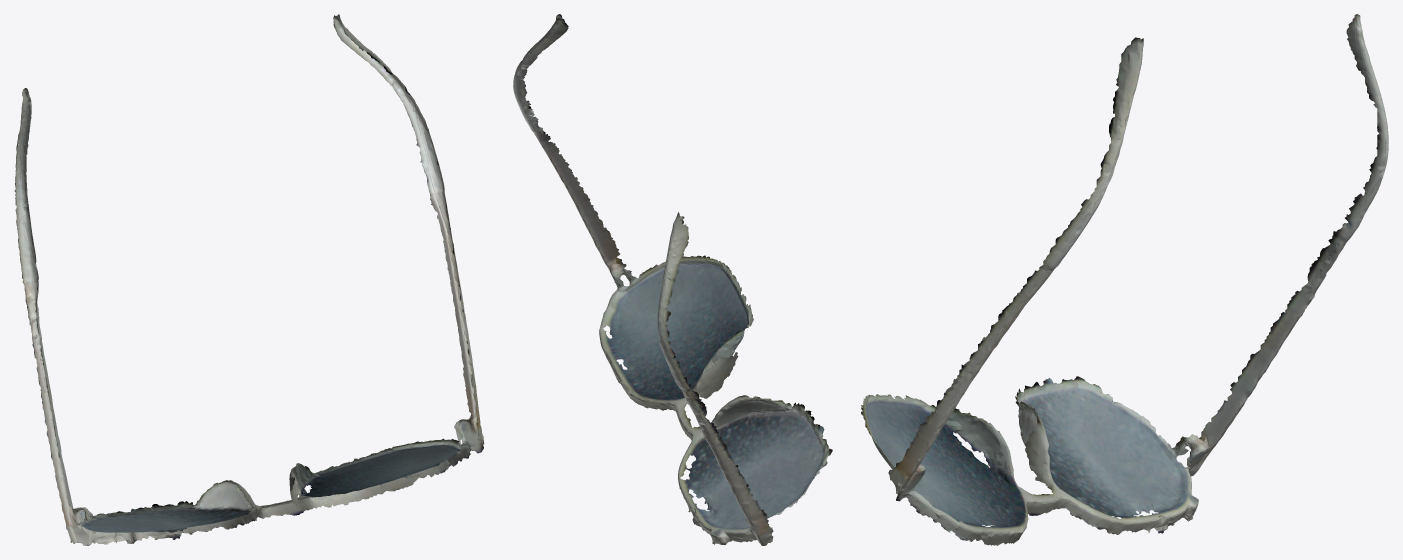
File: eyeglasses3.obj
3 renders of one model, left to right at view 1: azimuth 30°, elevation 25°; view 2: azimuth 150°, elevation 25°; view 3: azimuth 270°, elevation 25°, orthographic. The views are drawn at different scales.
Bounding box in the file's own units: 111 × 159 × 129.
Materials: 1 (1 with a texture image).
